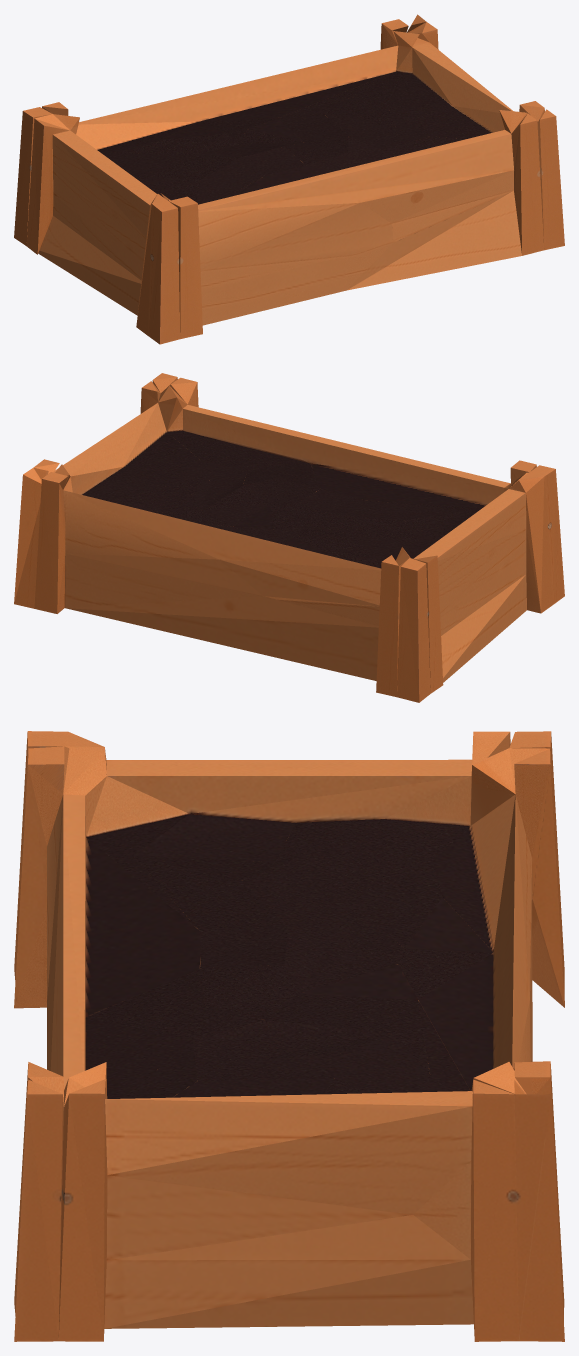
Rendered from raised_garden_bed_empty_soil.glb.
3 views of the same model, one above another, from view 1: azimuth 30°, elevation 25°; view 2: azimuth 150°, elevation 25°; view 3: azimuth 270°, elevation 25° (orthographic). The views are drawn at different scales.
Bounding box in the file's own units: 1.9 × 0.5768 × 1.19.
Materials: 1 (1 with a texture image).
